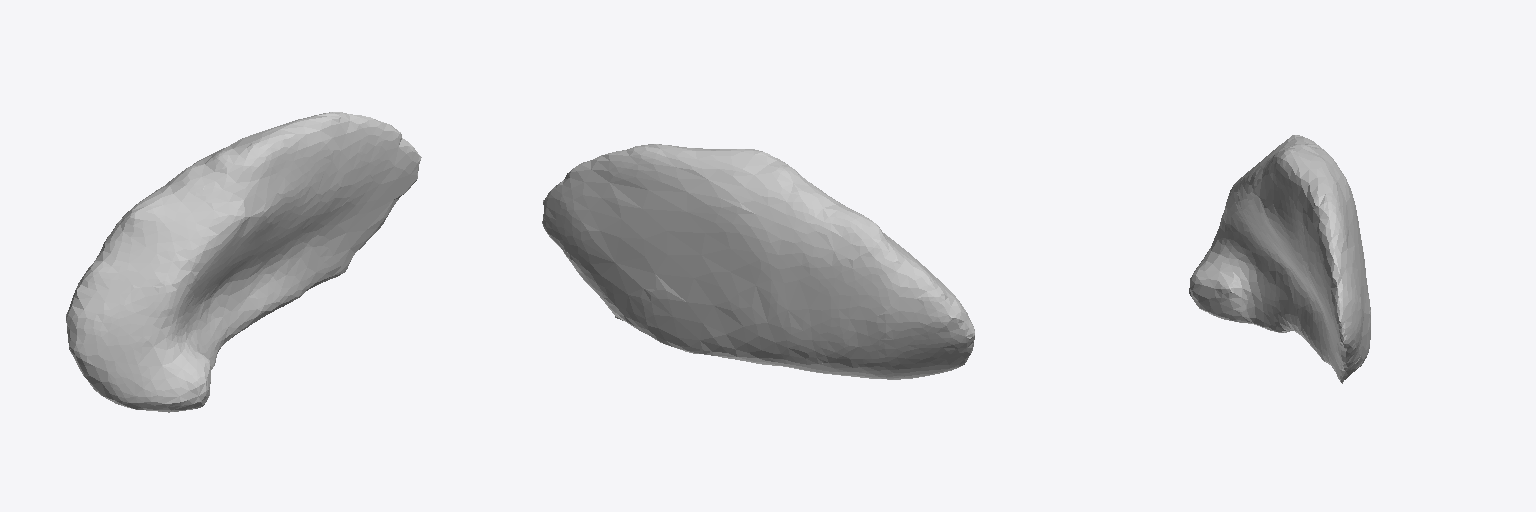
The model's file is R-Putamen.obj.
3 renders of one model, left to right at view 1: azimuth 30°, elevation 25°; view 2: azimuth 150°, elevation 25°; view 3: azimuth 270°, elevation 25°, orthographic.
Visible parts, largest first — view 1: R-putamen_putamen.001; view 2: R-putamen_putamen.001; view 3: R-putamen_putamen.001.
Boxes of the visible parts, x1=… form: R-putamen_putamen.001: x1=66, y1=112, x2=421, y2=412; R-putamen_putamen.001: x1=542, y1=144, x2=974, y2=379; R-putamen_putamen.001: x1=1189, y1=135, x2=1370, y2=383.
Size of the model in its own units: 64.65 by 33.99 by 26.07.